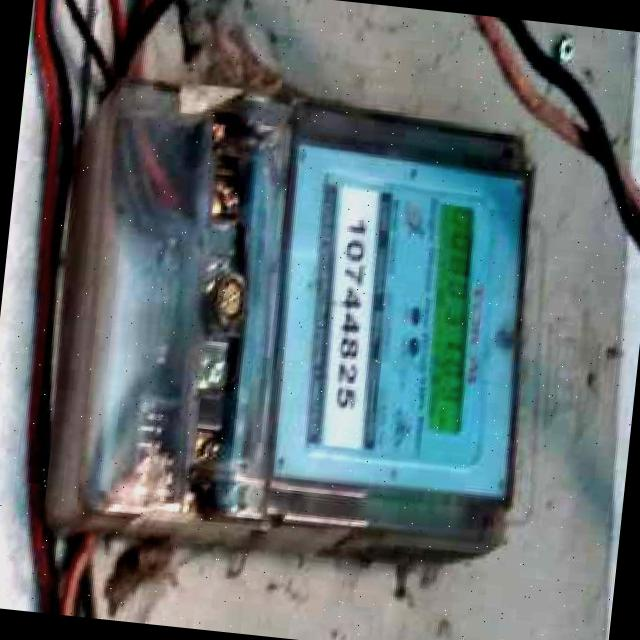LCD: (411, 192, 488, 444)
